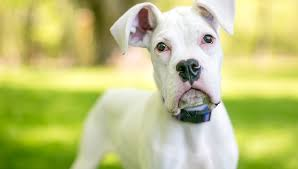dog: (153, 27, 222, 113)
